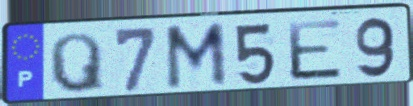5: (232, 19, 279, 86)
7: (113, 26, 159, 95)
9: (352, 15, 397, 79)
E: (284, 17, 346, 83)
M: (162, 20, 230, 93)
Q: (47, 31, 107, 95)
